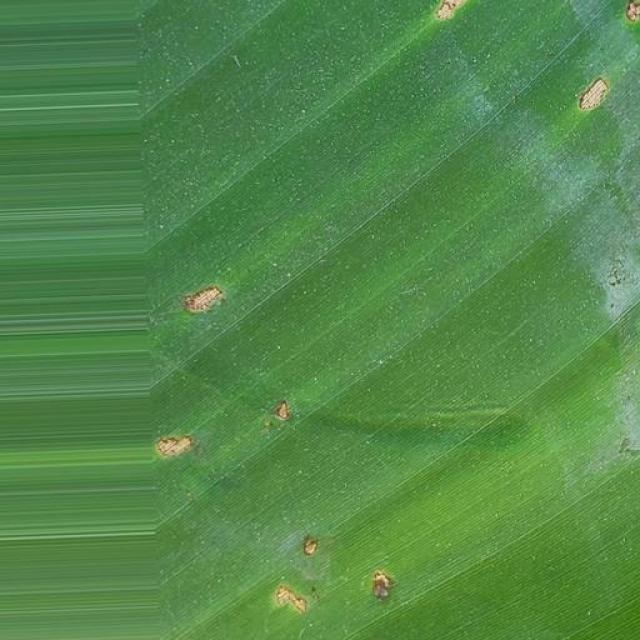Black_rot: (137, 1, 640, 640)
